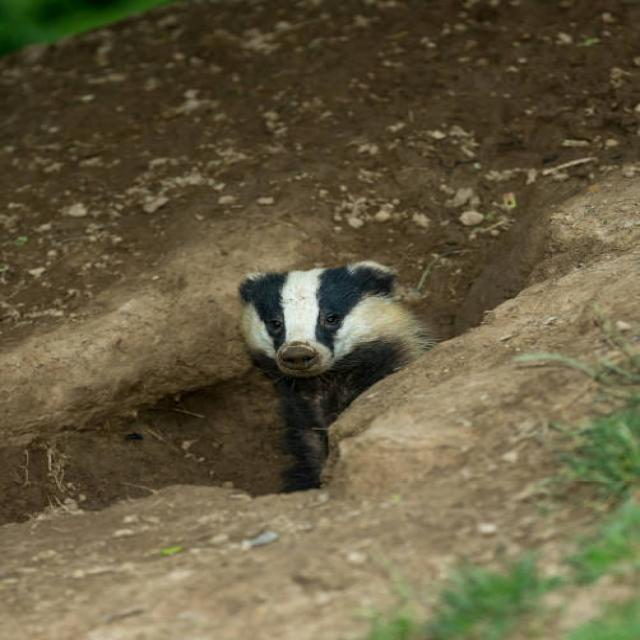Badger: (234, 262, 420, 508)
